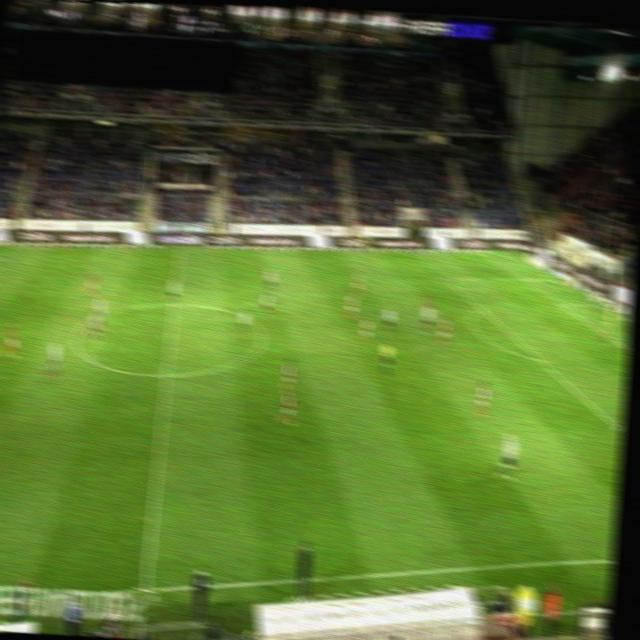bigarea_bottom_inner: (611, 423, 624, 435)
bigarea_top_inner: (438, 270, 453, 283)
bigarea_top_outter: (546, 273, 561, 284)
bottom_arc_area_intersection: (530, 352, 552, 368)
corner: (502, 248, 518, 260)
halfcircle_bottom: (158, 367, 175, 379)
halfcircle_top: (166, 297, 182, 309)
midline_bottom_intersection: (133, 579, 157, 600)
midline_top_intersection: (171, 242, 187, 254)
smallarea_top_inner: (551, 298, 566, 310)
smallarea_top_outter: (589, 298, 605, 310)
top_arc_area_intersection: (473, 301, 490, 316)
